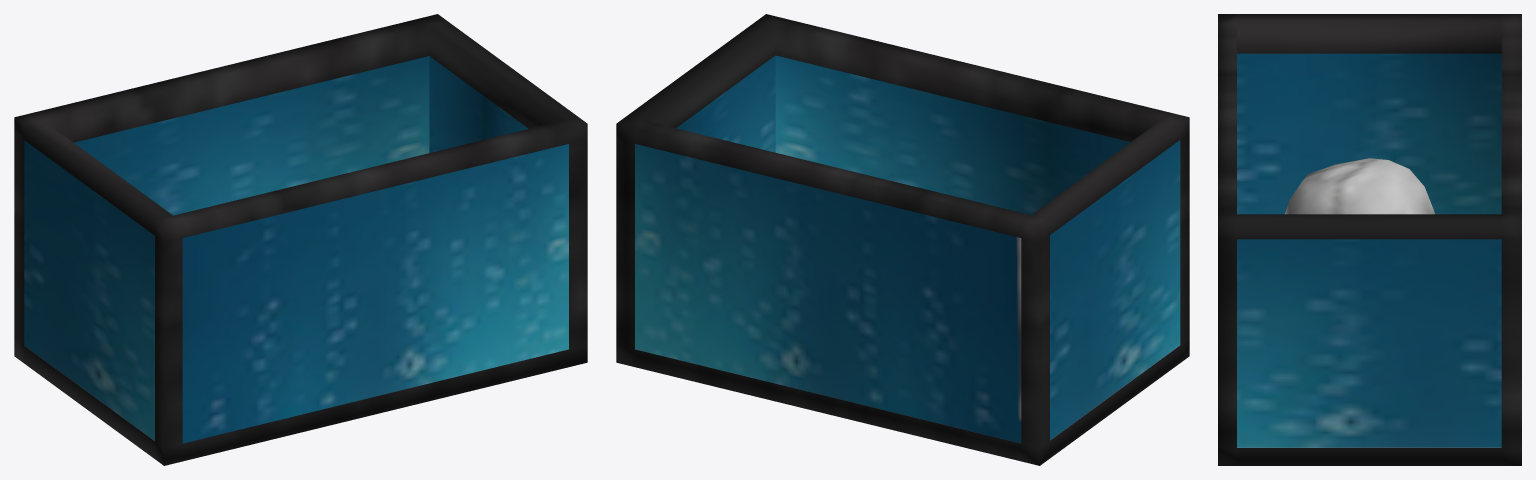
The model's file is WorldItem_HCFishTank_Head.fbx.
The picture shows the model from 3 angles, left to right: view 1: azimuth 30°, elevation 25°; view 2: azimuth 150°, elevation 25°; view 3: azimuth 270°, elevation 25°; orthographic projection.
Visible parts, largest first — view 1: FishTankSkull; view 2: FishTankSkull; view 3: FishTankSkull.
Part boxes in pixels (bbox=[...]): FishTankSkull: bbox=[14, 14, 587, 465]; FishTankSkull: bbox=[616, 14, 1189, 465]; FishTankSkull: bbox=[1218, 14, 1521, 465].
Size of the model in its own units: 0.4345 by 0.2343 by 0.2663.
